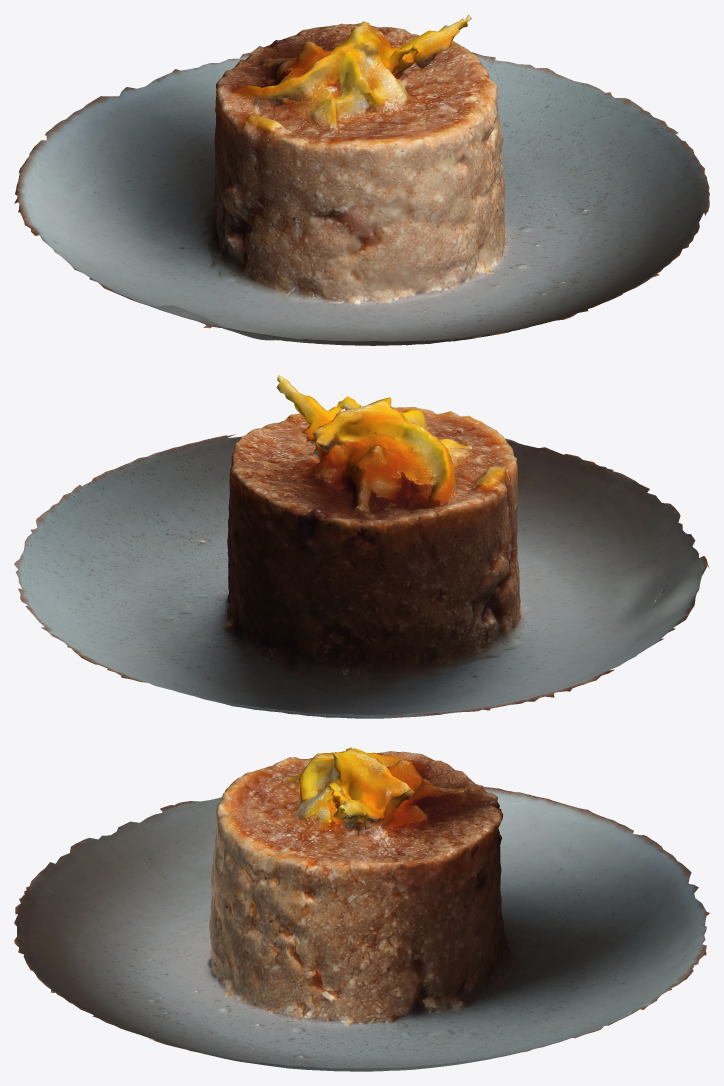
File: irmik.glb
The picture shows the model from 3 angles, top to bottom: view 1: azimuth 30°, elevation 25°; view 2: azimuth 150°, elevation 25°; view 3: azimuth 270°, elevation 25°; orthographic projection.
Visible parts, largest first — view 1: irmik v1; view 2: irmik v1; view 3: irmik v1.
Part boxes in pixels (x1,y1,x2,y2): irmik v1: (14,14,709,345); irmik v1: (14,374,709,718); irmik v1: (14,747,709,1071).
Size of the model in its own units: 0.2222 by 0.0757 by 0.225.
Materials: 1 (1 with a texture image).
